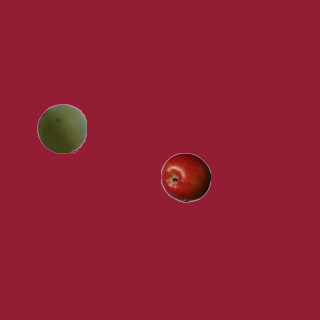Apple Braeburn: (160, 152, 210, 202)
Grape White 4: (36, 103, 86, 153)
